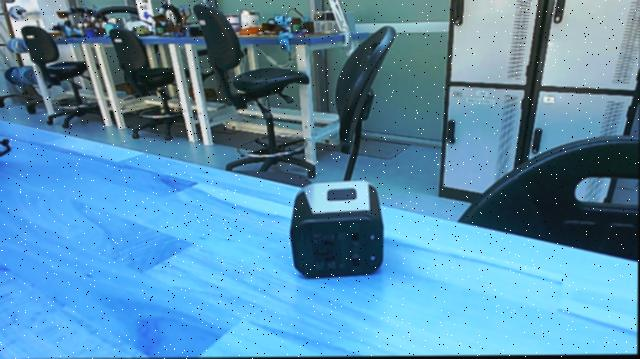adapter: (280, 177, 395, 289)
